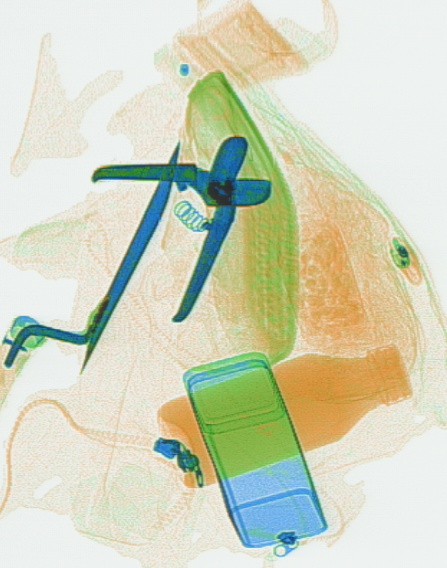scissors: (88, 133, 273, 323)
